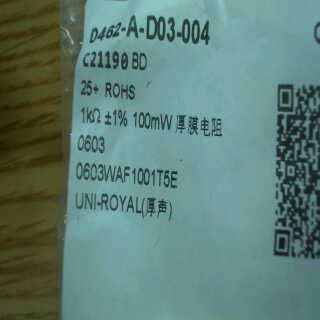1kR: (79, 103, 104, 126)
